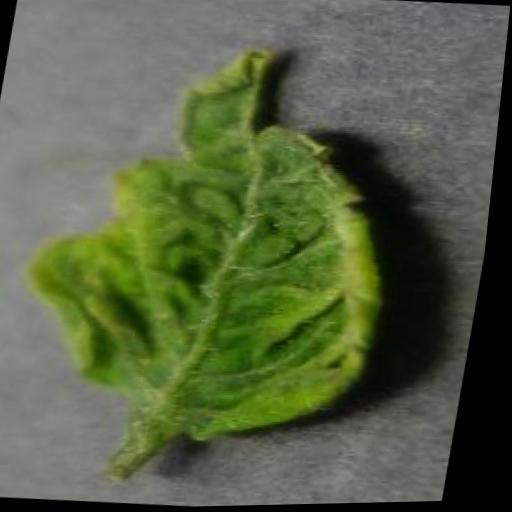Yellow Leaf Curl Virus: (9, 33, 427, 452)
